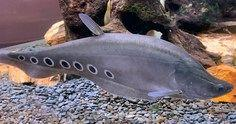Knifefish: (1, 14, 234, 104)
